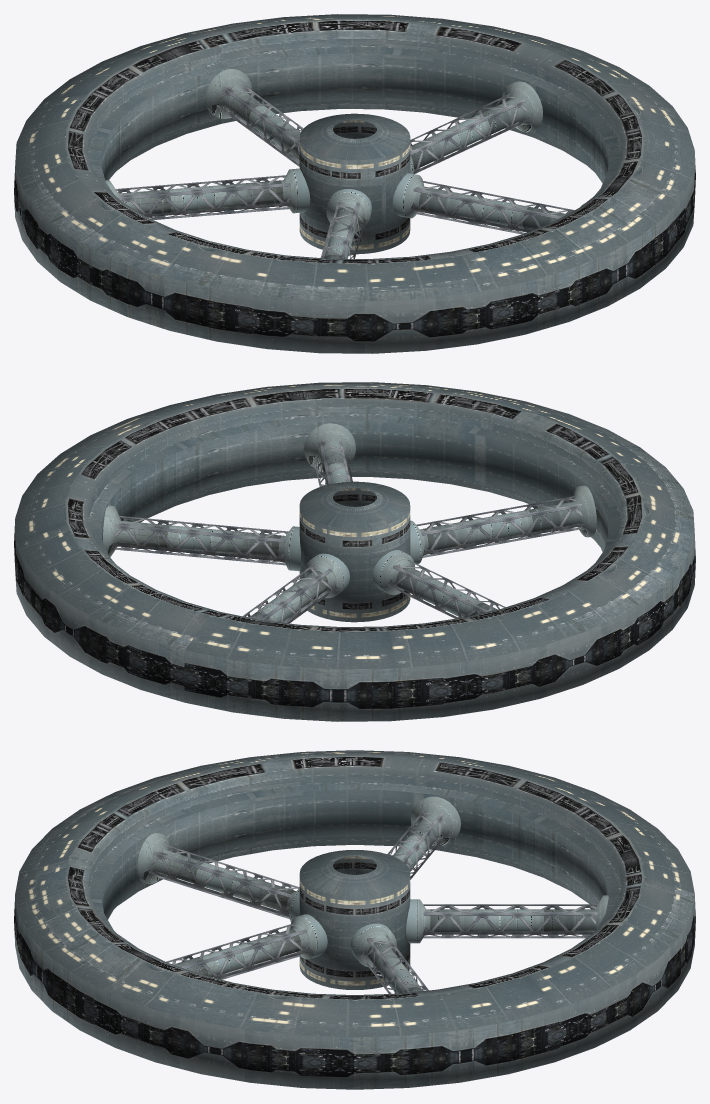
Rendered from MainWheel.fbx.
The picture shows the model from 3 angles, top to bottom: view 1: azimuth 30°, elevation 25°; view 2: azimuth 150°, elevation 25°; view 3: azimuth 270°, elevation 25°; orthographic projection.
Parts seen in each view (by area): view 1: MainWheel; view 2: MainWheel; view 3: MainWheel.
Part boxes in pixels (box(x1,y1,x2,y2)): MainWheel: box(14, 14, 695, 353); MainWheel: box(14, 382, 695, 721); MainWheel: box(14, 750, 695, 1089).
Size of what is drawn, in the model's own units: 2713 by 477 by 2713.
